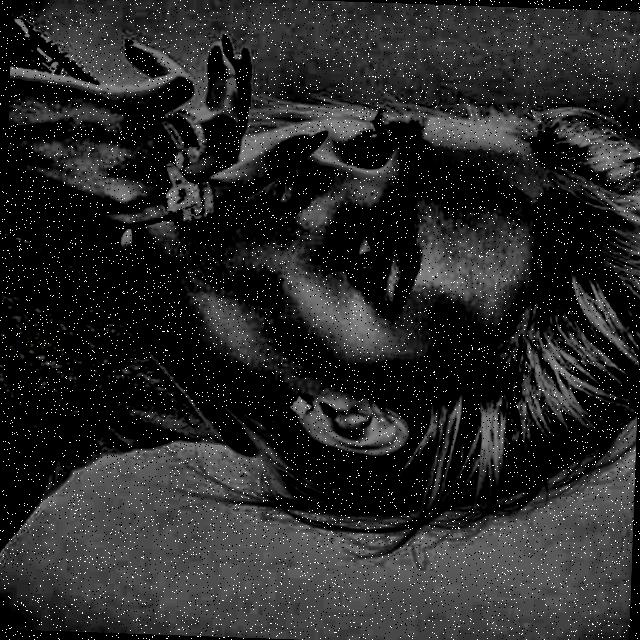neutral: (124, 67, 640, 544)
